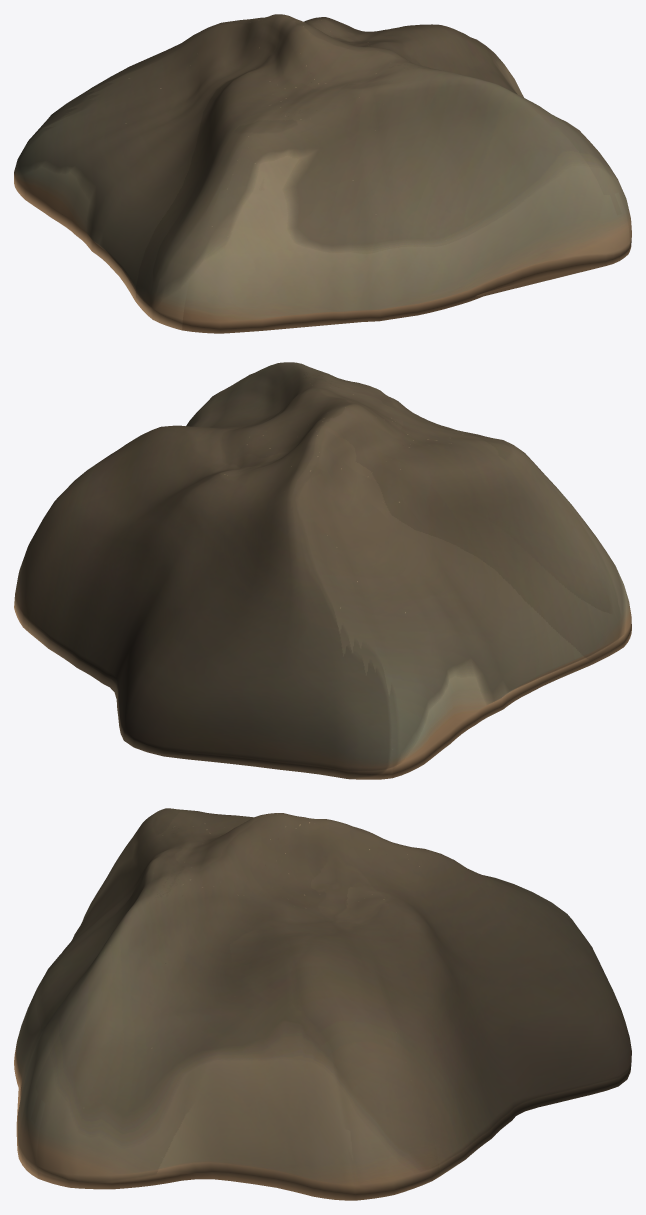
Rendered from Tas1.fbx.
3 views of the same model, one above another, from view 1: azimuth 30°, elevation 25°; view 2: azimuth 150°, elevation 25°; view 3: azimuth 270°, elevation 25° (orthographic). The views are drawn at different scales.
Parts seen in each view (by area): view 1: Cube.032; view 2: Cube.032; view 3: Cube.032.
Part boxes in pixels (x1=…): Cube.032: x1=14, y1=14, x2=631, y2=333; Cube.032: x1=14, y1=362, x2=631, y2=779; Cube.032: x1=14, y1=808, x2=631, y2=1200.
Bounding box in the file's own units: 715 × 309 × 713.
1 material, 1 textured.
